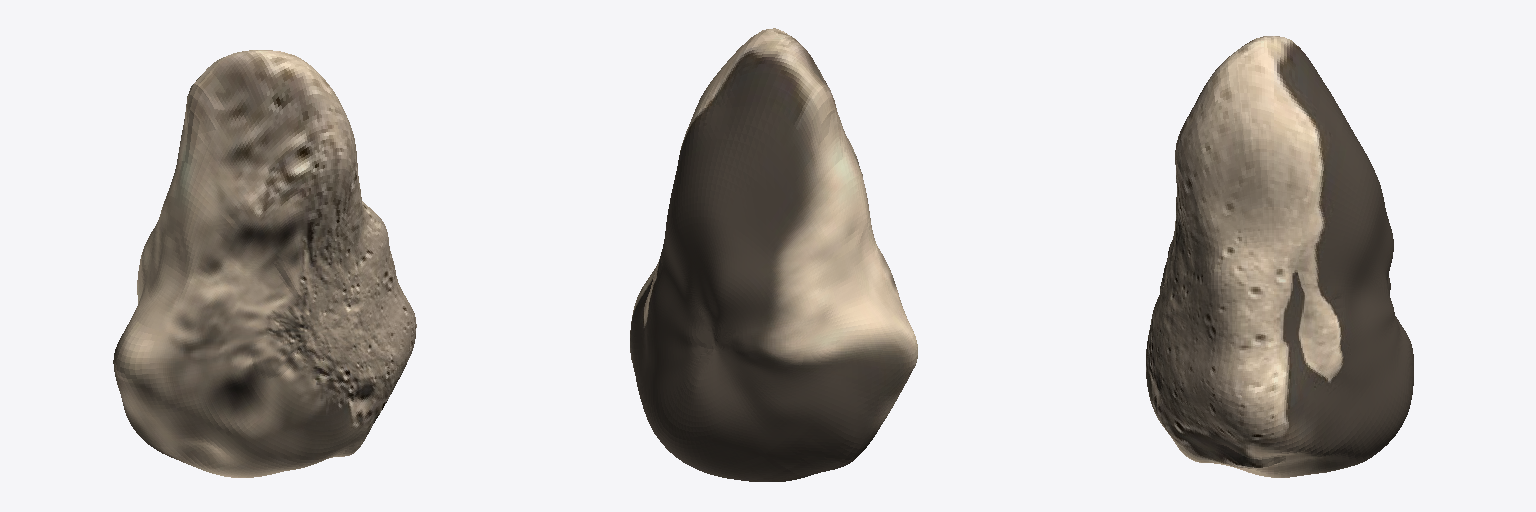
The picture shows the model from 3 angles: view 1: azimuth 30°, elevation 25°; view 2: azimuth 150°, elevation 25°; view 3: azimuth 270°, elevation 25°; orthographic projection.
Size of the model in its own units: 13.04 by 18.56 by 10.66.
1 materials, 1 textured.